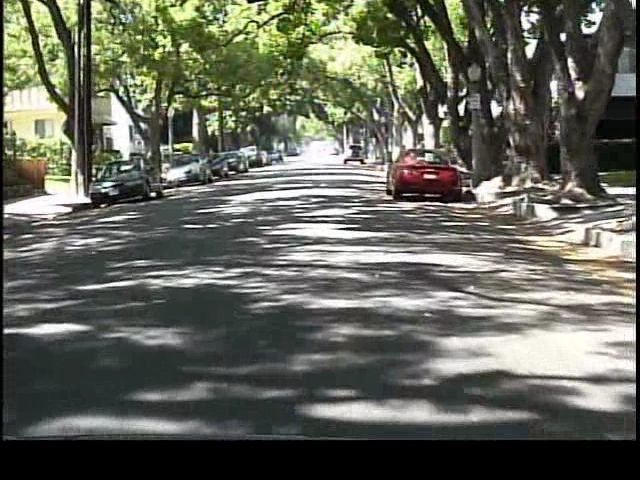person: (145, 145, 165, 185)
